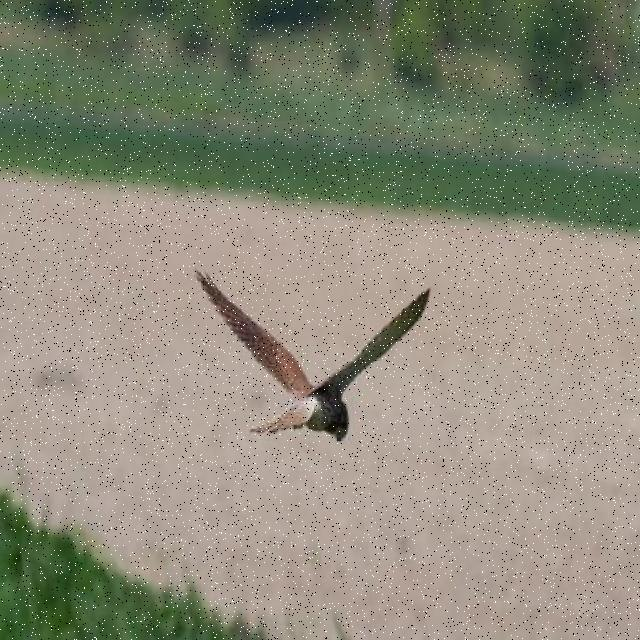bird: (195, 268, 432, 442)
